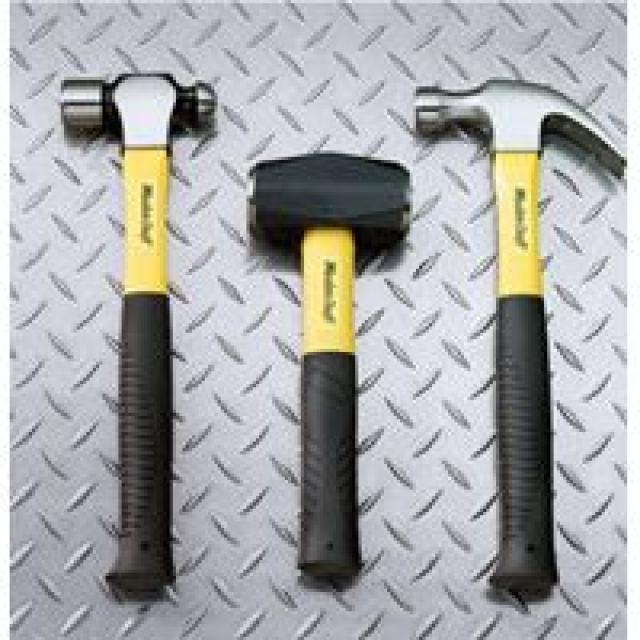hammer: (406, 63, 640, 622), (35, 47, 222, 588)
